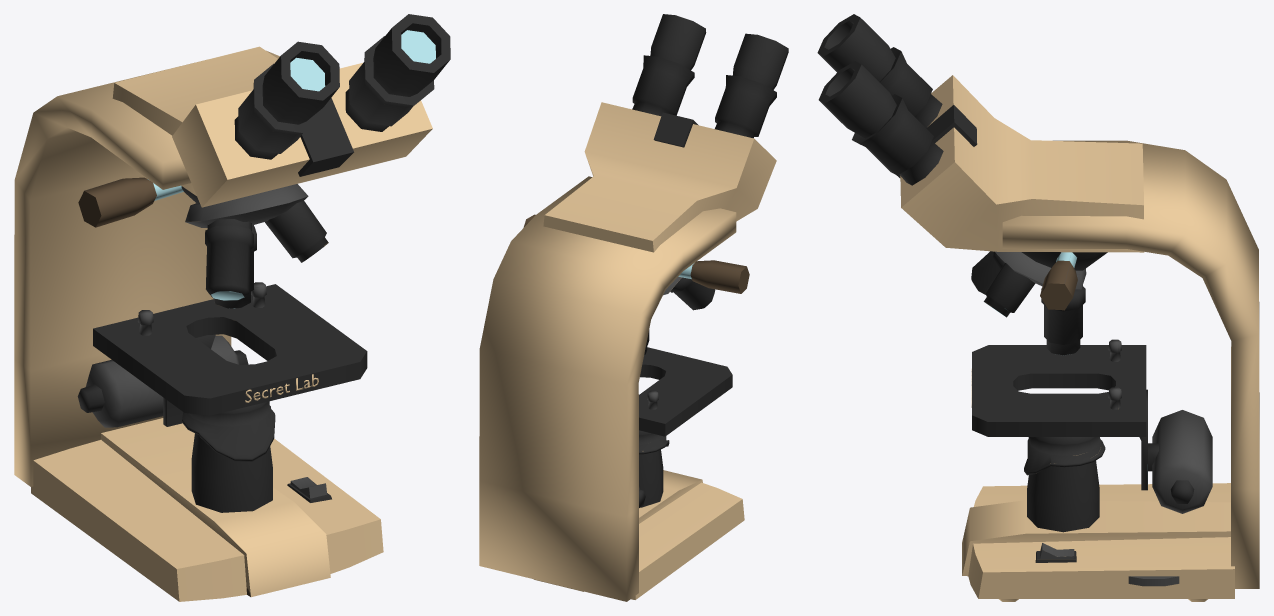
The model's file is MicroScope.fbx.
3 renders of one model, left to right at view 1: azimuth 30°, elevation 25°; view 2: azimuth 150°, elevation 25°; view 3: azimuth 270°, elevation 25°, orthographic. The views are drawn at different scales.
Visible parts, largest first — view 1: Korpus, Metall, Linza, Trubka, VideoSearch, Wheel; view 2: Korpus, Linza, Metall, VideoSearch, Wheel, Trubka; view 3: Korpus, Metall, Linza, VideoSearch, Trubka, Wheel.
Boxes of the visible parts, box(x1,y1,x2,y2) form: Korpus: box(14, 46, 432, 601); Metall: box(77, 282, 367, 427); Linza: box(234, 14, 450, 176); Trubka: box(181, 184, 328, 308); VideoSearch: box(182, 401, 275, 512); Wheel: box(78, 177, 183, 227); Korpus: box(479, 102, 776, 601); Linza: box(632, 14, 788, 147); Metall: box(639, 347, 732, 507); VideoSearch: box(639, 430, 669, 507); Wheel: box(523, 214, 749, 293); Trubka: box(644, 276, 715, 354); Korpus: box(900, 75, 1259, 601); Metall: box(971, 339, 1212, 513); Linza: box(817, 14, 977, 185); VideoSearch: box(1024, 437, 1105, 532); Trubka: box(971, 251, 1107, 355); Wheel: box(1040, 252, 1077, 310).
Size of the model in its own units: 3.35 by 6.61 by 5.04.
Materials: 1 (1 with a texture image).
